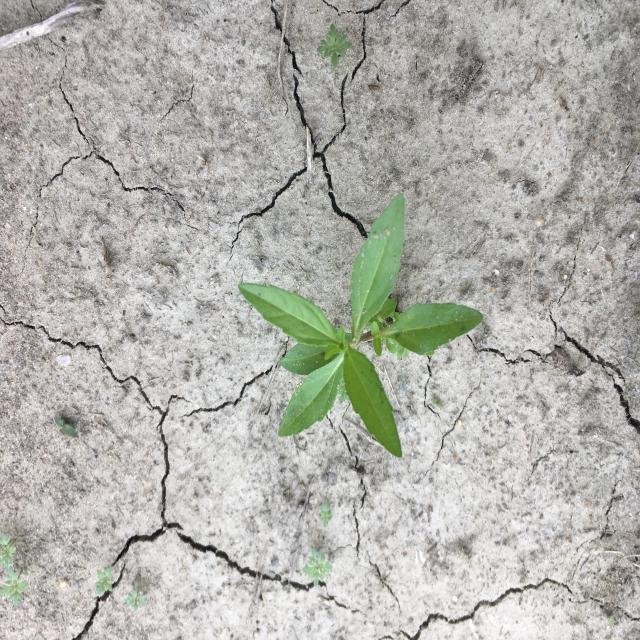Eclipta: (237, 192, 484, 459)
Ragweed: (1, 530, 30, 610), (315, 21, 354, 71), (300, 546, 334, 590)
